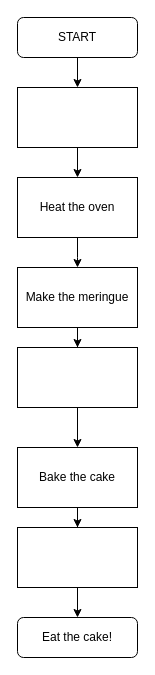
This 155x675 diagram has some shape labels left out. The shapes that lost their labels are listed below. From the top down, each one's centre as x and y in pixels, then its label:
the point at 77,117: Buy products
the point at 77,377: Fill in the cake tin
the point at 77,557: Cover the cake with icing
